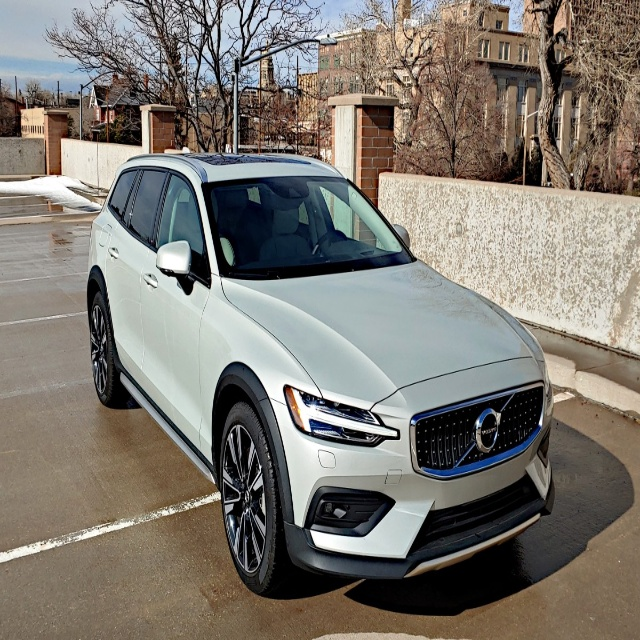Car: (89, 150, 555, 595)
